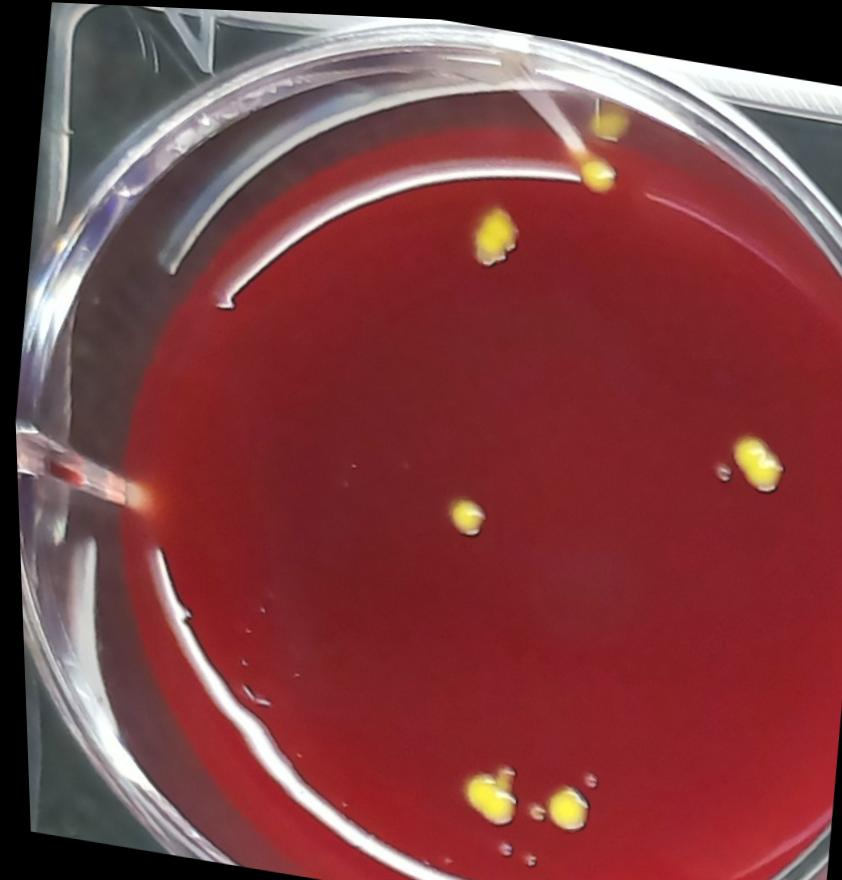mluteus: (460, 190, 526, 277), (450, 752, 519, 825), (716, 419, 785, 490), (532, 769, 590, 833), (568, 142, 620, 200), (436, 484, 487, 541)
